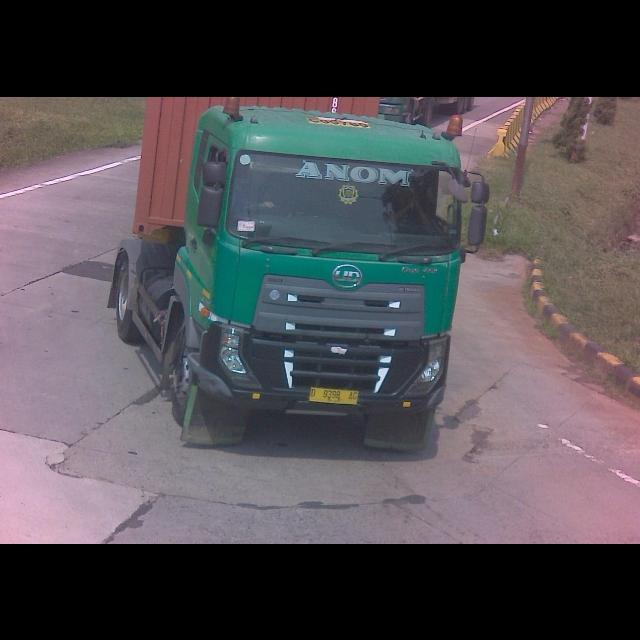plate: (310, 382, 361, 406)
